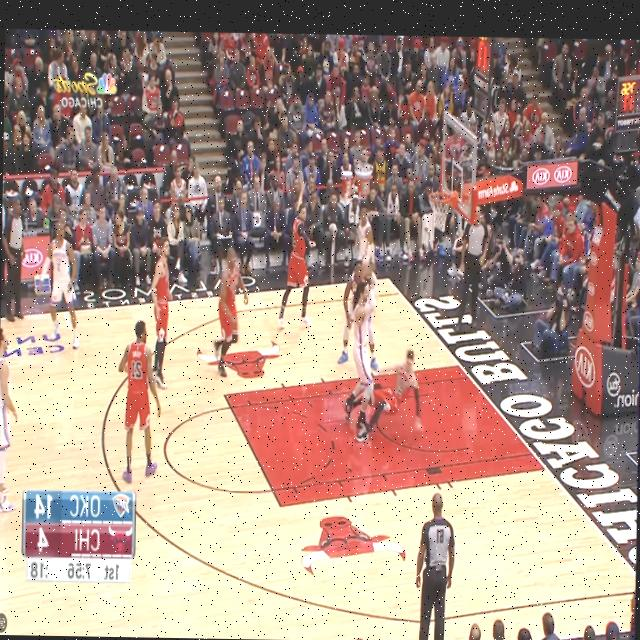foul: (334, 260, 429, 450)
